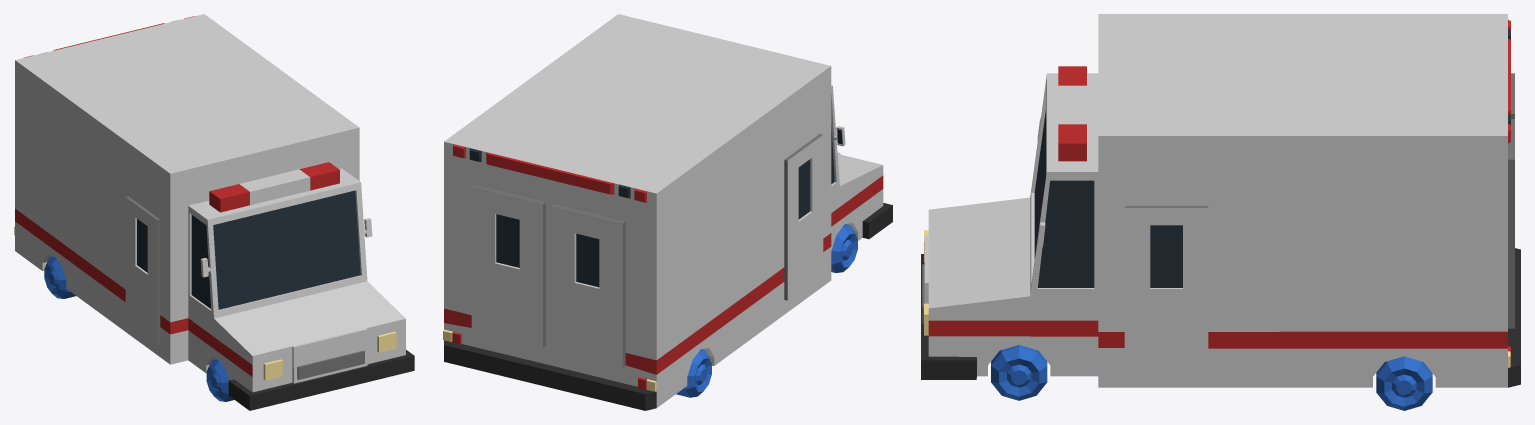
The model's file is qt.ambulance.glb.
3 views of the same model, side by side, from view 1: azimuth 30°, elevation 25°; view 2: azimuth 150°, elevation 25°; view 3: azimuth 270°, elevation 25° (orthographic). The views are drawn at different scales.
Parts seen in each view (by area): view 1: Ambulance_Cube.001, FrontWheels_Cylinder.002, BackWheels_Cylinder.003; view 2: Ambulance_Cube.001, FrontWheels_Cylinder.002, BackWheels_Cylinder.003; view 3: Ambulance_Cube.001, FrontWheels_Cylinder.002, BackWheels_Cylinder.003.
Boxes of the visible parts, left/top/right/bottom form: Ambulance_Cube.001: left=14, top=14, right=414, bottom=410; FrontWheels_Cylinder.002: left=206, top=358, right=234, bottom=401; BackWheels_Cylinder.003: left=44, top=256, right=75, bottom=298; Ambulance_Cube.001: left=443, top=14, right=892, bottom=410; FrontWheels_Cylinder.002: left=831, top=224, right=857, bottom=272; BackWheels_Cylinder.003: left=676, top=349, right=711, bottom=397; Ambulance_Cube.001: left=921, top=14, right=1520, bottom=387; FrontWheels_Cylinder.002: left=991, top=345, right=1047, bottom=400; BackWheels_Cylinder.003: left=1376, top=356, right=1432, bottom=410.
Bounding box in the file's own units: 2.98 × 3.06 × 6.
